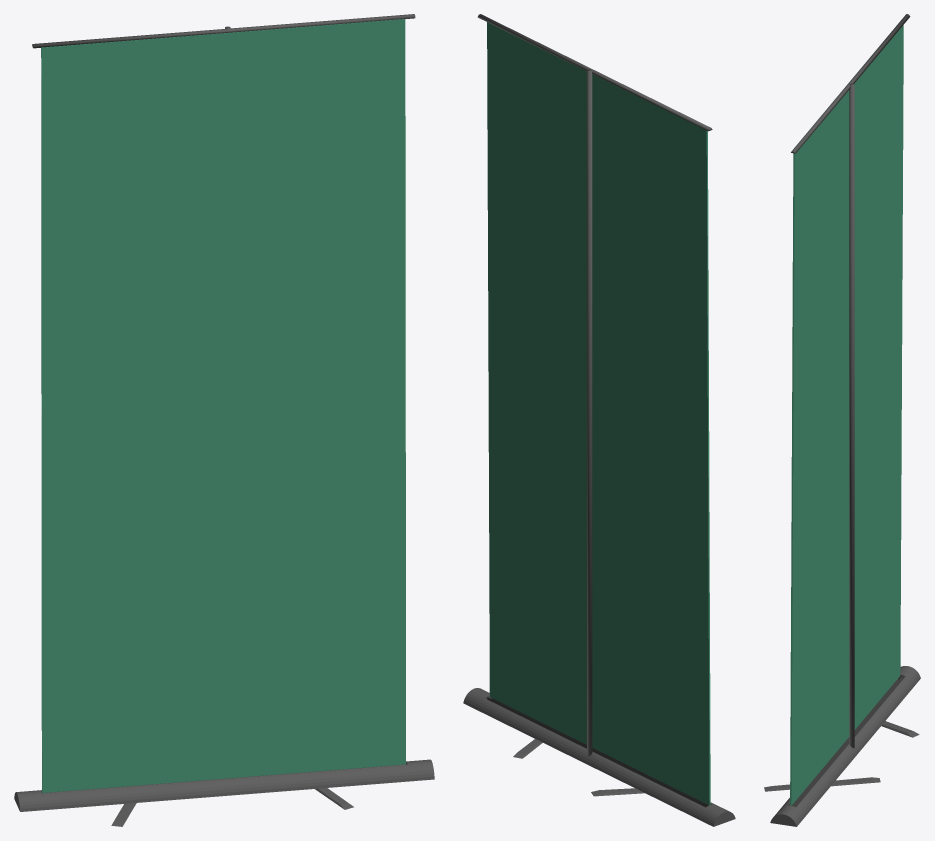
File: Roll banner.fbx
The picture shows the model from 3 angles, left to right: view 1: azimuth 30°, elevation 25°; view 2: azimuth 150°, elevation 25°; view 3: azimuth 270°, elevation 25°; orthographic projection. The views are drawn at different scales.
Visible parts, largest first — view 1: Posts.001; view 2: Posts.001; view 3: Posts.001.
Part boxes in pixels (<box>): Posts.001: <box>14,14,434,826</box>; Posts.001: <box>463,14,735,826</box>; Posts.001: <box>764,14,920,826</box>.
Bounding box in the file's own units: 947 × 1950 × 412.
